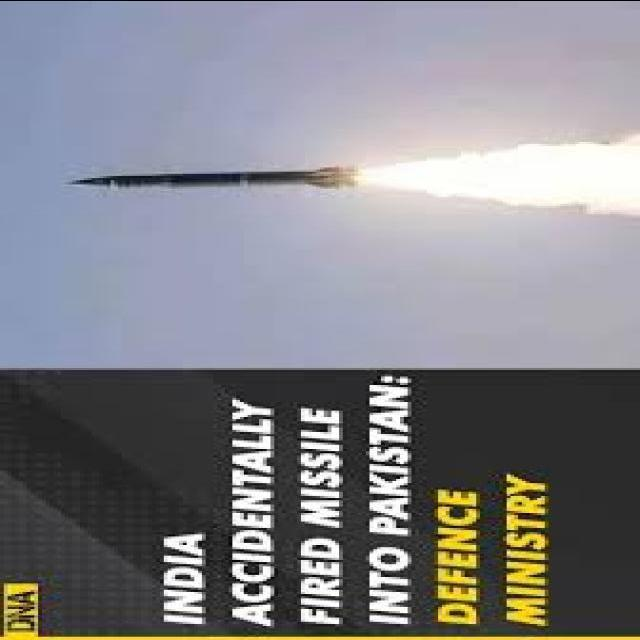Missile: (64, 164, 367, 191)
